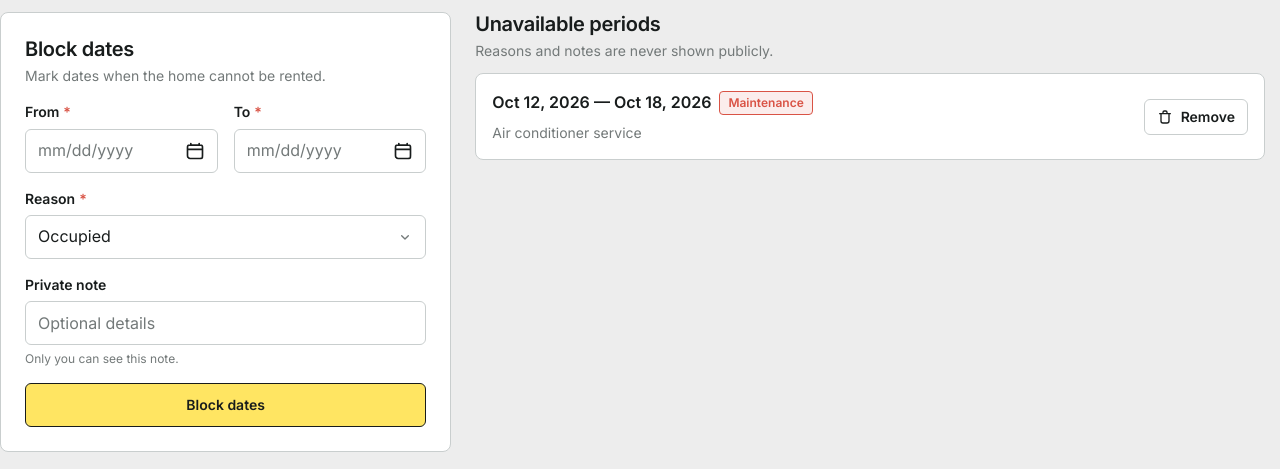
AvailabilityManager › renders private blocks and removes them from the cached list
This screenshot has width=1280, height=469.
Expected: the text "Air conditioner service" is shown, x1=492 y1=124 x2=642 y2=141
Expected: the text "Maintenance" is shown, x1=719 y1=91 x2=813 y2=115
Click the button "Remove".
click(1196, 117)  # box x1=1144 y1=99 x2=1248 y2=135
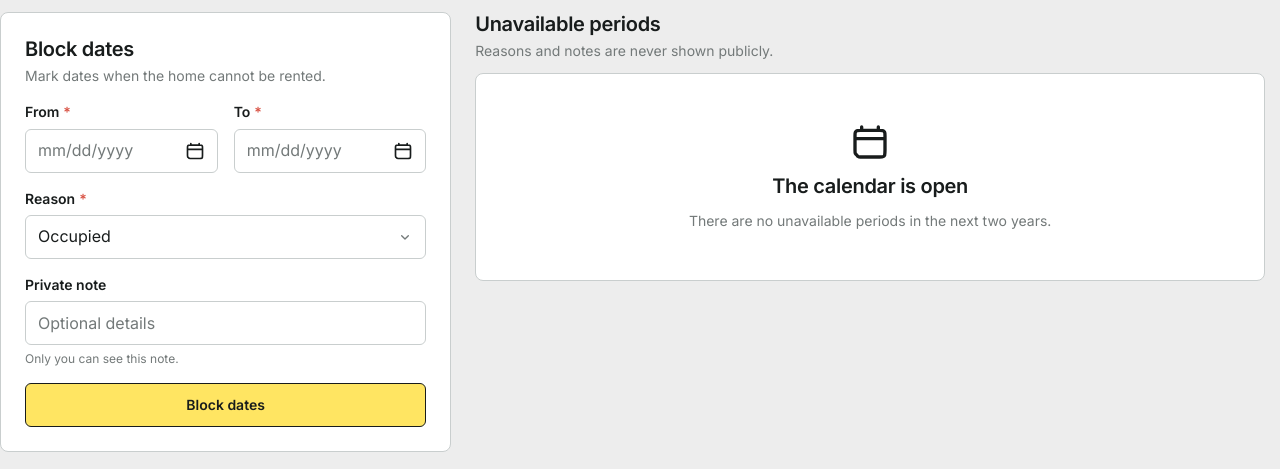
Expected: the text "Air conditioner service" is gone
